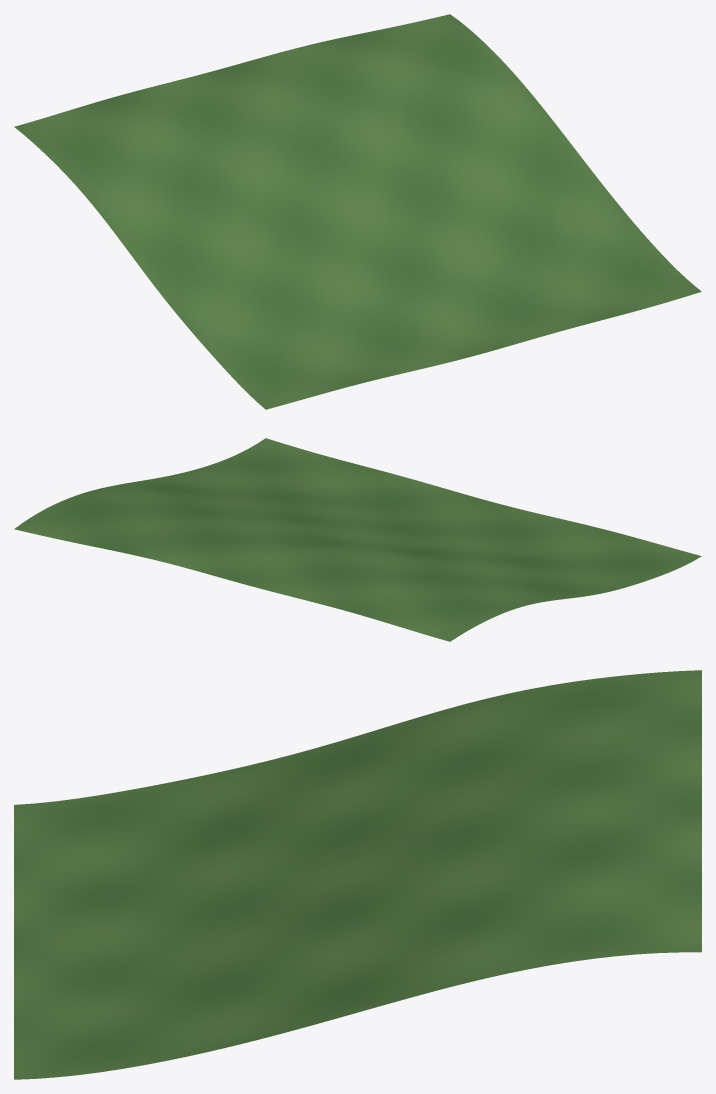
File: chunk_10_0.glb
3 views of the same model, one above another, from view 1: azimuth 30°, elevation 25°; view 2: azimuth 150°, elevation 25°; view 3: azimuth 270°, elevation 25° (orthographic). The views are drawn at different scales.
Bounding box in the file's own units: 512 × 122 × 512.
